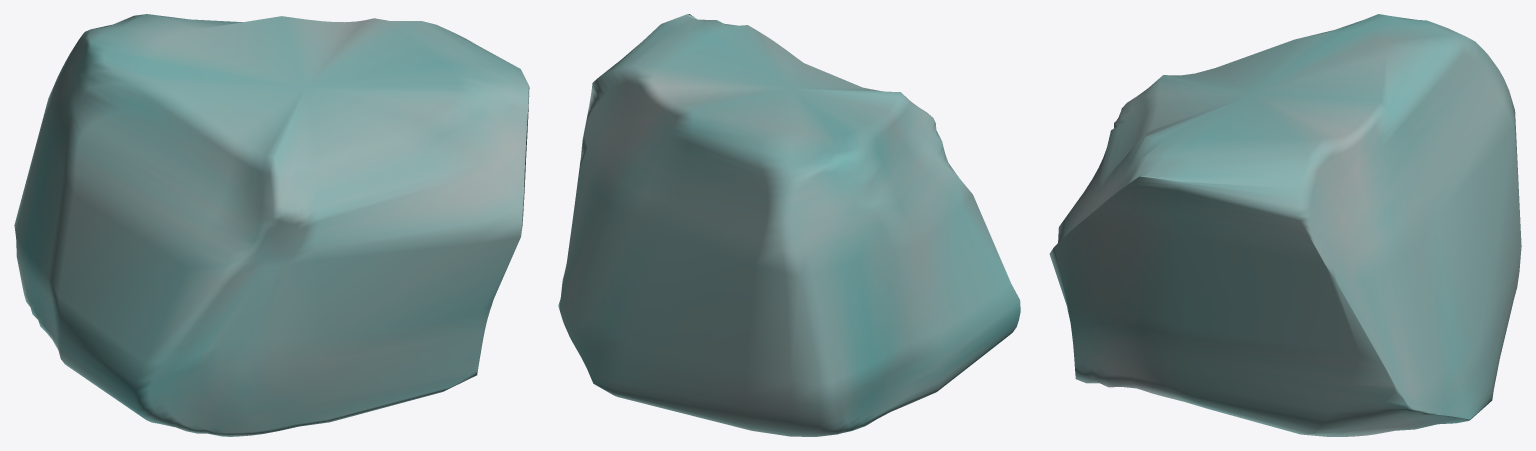
File: SM_Rock_08.glb
The picture shows the model from 3 angles, left to right: view 1: azimuth 30°, elevation 25°; view 2: azimuth 150°, elevation 25°; view 3: azimuth 270°, elevation 25°; orthographic projection. The views are drawn at different scales.
Visible parts, largest first — view 1: SM_Rock_08; view 2: SM_Rock_08; view 3: SM_Rock_08.
Boxes of the visible parts, x1,y1,x2,y2 form: SM_Rock_08: (14, 14, 529, 436); SM_Rock_08: (558, 14, 1020, 436); SM_Rock_08: (1049, 14, 1521, 436).
Bounding box in the file's own units: 0.9611 × 0.7079 × 0.9606.
